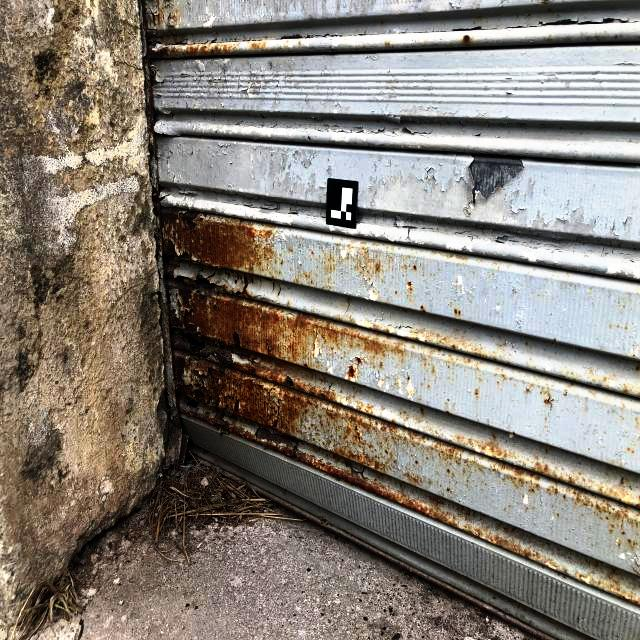Corrosion: (140, 0, 476, 530), (222, 469, 556, 640), (453, 434, 579, 488), (573, 487, 640, 550), (398, 427, 482, 474), (487, 456, 540, 494), (582, 475, 640, 509), (355, 240, 381, 275), (162, 0, 178, 29), (292, 269, 318, 286), (540, 383, 555, 407), (323, 252, 337, 273), (545, 484, 564, 498), (251, 40, 270, 52), (440, 254, 468, 262), (404, 473, 422, 485), (408, 329, 424, 341), (346, 363, 357, 380), (356, 404, 374, 414), (472, 346, 487, 358), (434, 333, 449, 345), (323, 277, 335, 290), (367, 321, 382, 330), (355, 354, 363, 367), (464, 357, 473, 366), (375, 262, 380, 274), (454, 308, 461, 316), (463, 35, 470, 42), (420, 305, 426, 313), (540, 0, 551, 4), (385, 327, 392, 333), (379, 361, 384, 369), (476, 390, 481, 398), (171, 32, 175, 41), (298, 37, 303, 44), (448, 487, 453, 494), (408, 374, 412, 382), (451, 344, 457, 349), (407, 280, 412, 286), (288, 248, 293, 253), (280, 259, 284, 265), (438, 348, 442, 354), (433, 368, 436, 376), (564, 389, 567, 396), (311, 250, 314, 257), (385, 41, 390, 45), (526, 387, 530, 392), (407, 376, 411, 381), (413, 265, 417, 270), (429, 480, 432, 486), (637, 366, 640, 372), (512, 431, 516, 435), (347, 253, 349, 261), (546, 449, 548, 453), (395, 291, 397, 295), (549, 35, 551, 38)
